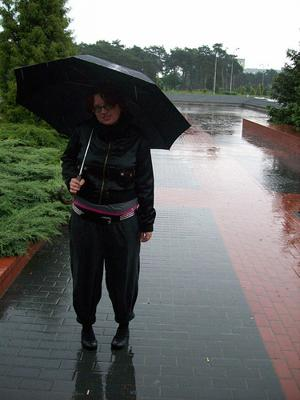person: (61, 81, 156, 353)
